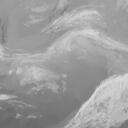cyclone: (42, 42, 93, 93)
